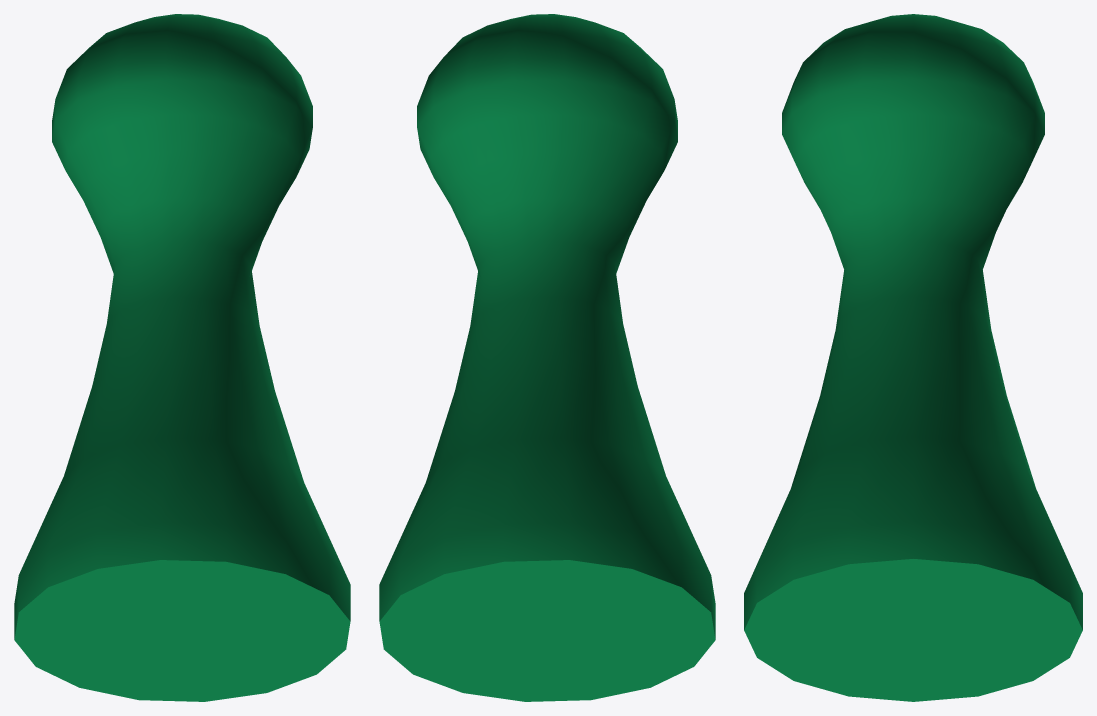
The model's file is pawn.glb.
3 renders of one model, left to right at view 1: azimuth 30°, elevation 25°; view 2: azimuth 150°, elevation 25°; view 3: azimuth 270°, elevation 25°, orthographic.
Parts seen in each view (by area): view 1: pawn; view 2: pawn; view 3: pawn.
Boxes of the visible parts, <box> form: pawn: <box>14,14,350,701</box>; pawn: <box>379,14,715,701</box>; pawn: <box>744,14,1082,701</box>.
Size of the model in its own units: 0.4636 by 0.9072 by 0.4636.
